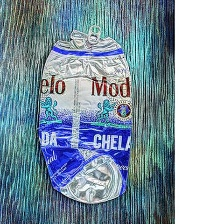can: (34, 23, 139, 207)
